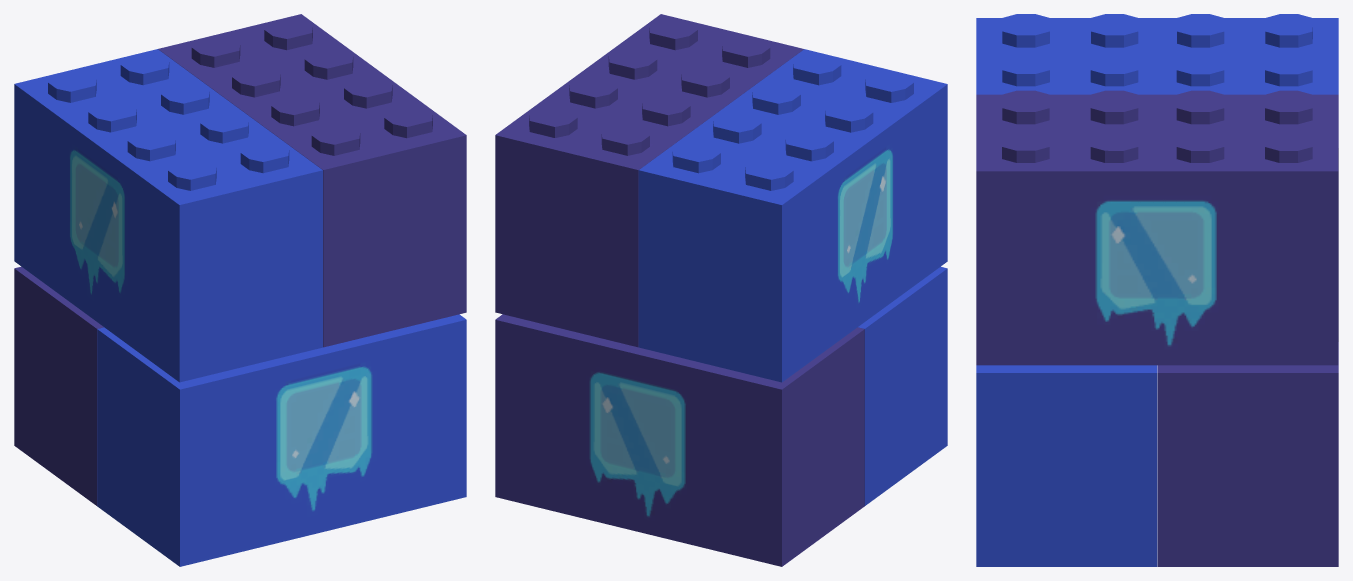
File: InteractableBlock2x2Freeze.fbx
3 views of the same model, side by side, from view 1: azimuth 30°, elevation 25°; view 2: azimuth 150°, elevation 25°; view 3: azimuth 270°, elevation 25° (orthographic). The views are drawn at different scales.
Visible parts, largest first — view 1: Cube.032; view 2: Cube.032; view 3: Cube.032.
Boxes of the visible parts, x1=… form: Cube.032: x1=14, y1=14, x2=466, y2=566; Cube.032: x1=495, y1=14, x2=947, y2=566; Cube.032: x1=976, y1=14, x2=1338, y2=566.
Size of the model in its own units: 305 by 378 by 304.
